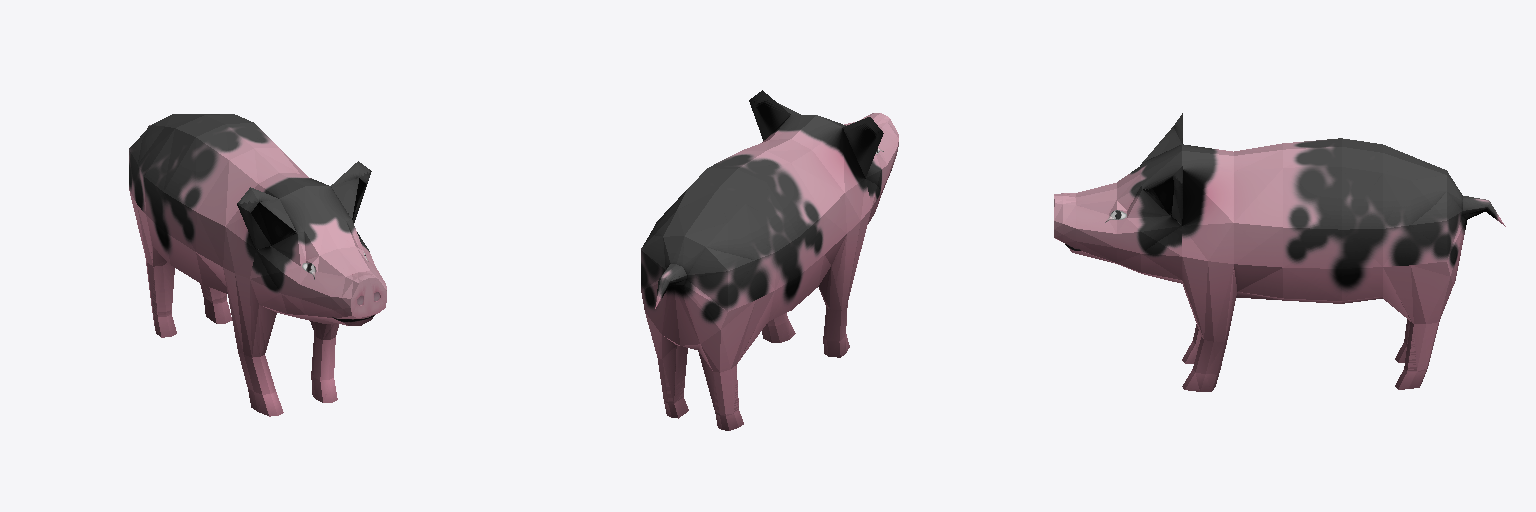
The picture shows the model from 3 angles: view 1: azimuth 30°, elevation 25°; view 2: azimuth 150°, elevation 25°; view 3: azimuth 270°, elevation 25°; orthographic projection.
Parts seen in each view (by area): view 1: Circle; view 2: Circle; view 3: Circle.
Part boxes in pixels (x1,y1,x2,y2): Circle: (129,114,386,416); Circle: (641,90,898,430); Circle: (1054,113,1505,391).
Size of the model in its own units: 1.36 by 2.25 by 3.93.
Materials: 1 (1 with a texture image).